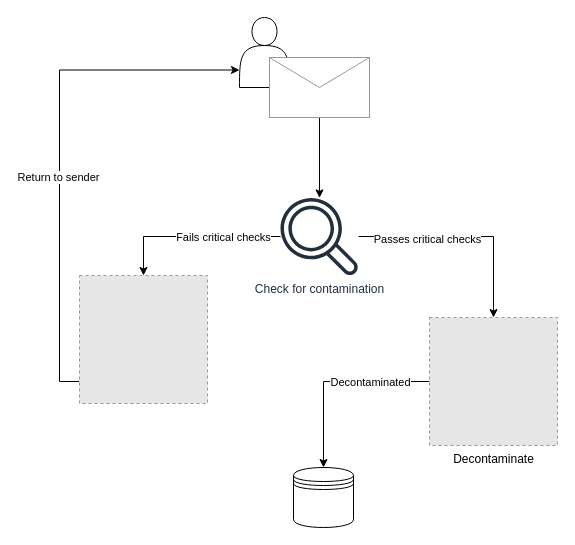
The diagram is 575 pixels wide and 545 high, and some of its shapes have lost their labels. Grey dashed boxes stand in for pictures. The shapes that lost their labels are listed below. From the top down, each one's box as (x1, y1, x2, y2) in pixels, then its label:
(268, 56, 370, 118): my_super_important_data.xlsx
(292, 466, 354, 528): Data Warehouse
